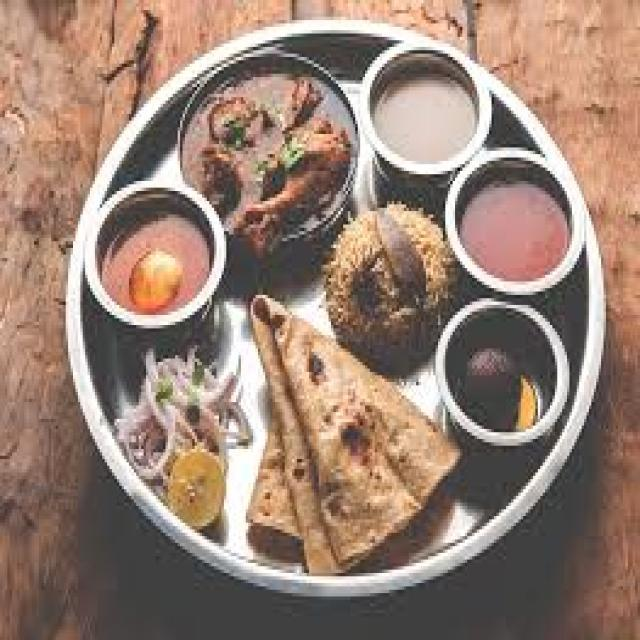pickle: (117, 402, 175, 482)
rice: (323, 195, 449, 373)
roti: (243, 304, 441, 578)
sweet: (190, 53, 358, 248), (434, 301, 569, 439), (93, 190, 223, 328), (450, 164, 580, 282), (365, 55, 485, 171)
veg-fry: (86, 190, 222, 326)
